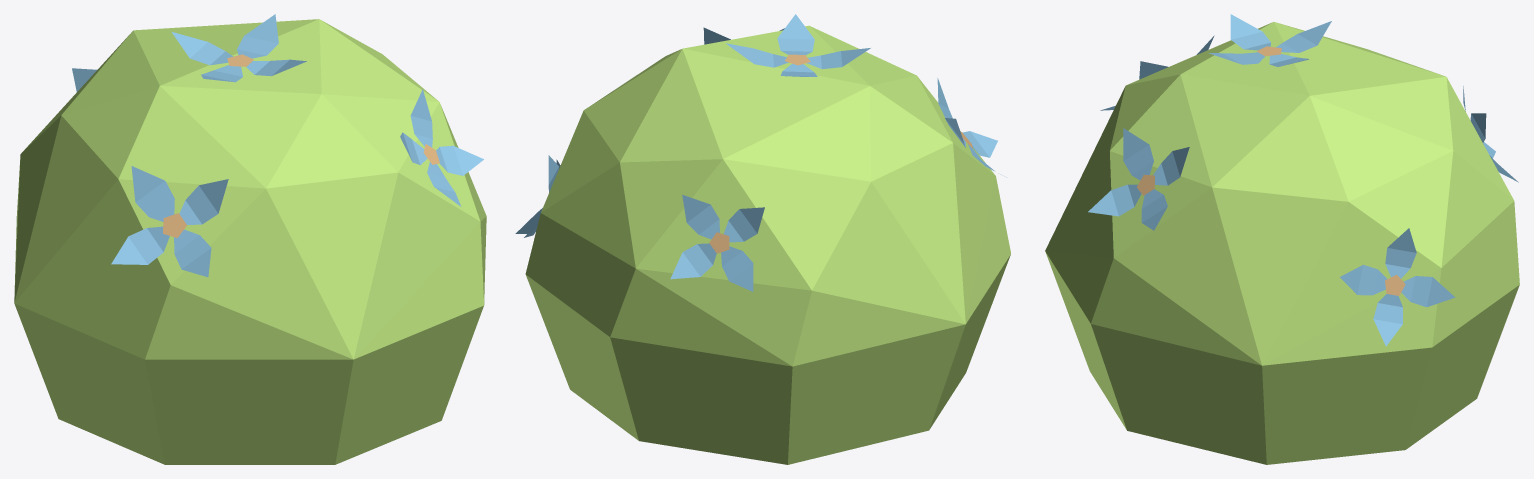
Rendered from FlowerBush_h_m_07.fbx.
3 views of the same model, side by side, from view 1: azimuth 30°, elevation 25°; view 2: azimuth 150°, elevation 25°; view 3: azimuth 270°, elevation 25° (orthographic). The views are drawn at different scales.
Parts seen in each view (by area): view 1: FlowerBush_h_m_07; view 2: FlowerBush_h_m_07; view 3: FlowerBush_h_m_07.
Part boxes in pixels (<box>): FlowerBush_h_m_07: <box>14,14,486,464</box>; FlowerBush_h_m_07: <box>515,14,1010,464</box>; FlowerBush_h_m_07: <box>1045,14,1519,464</box>.
Size of the model in its own units: 1.29 by 0.9853 by 1.25.
